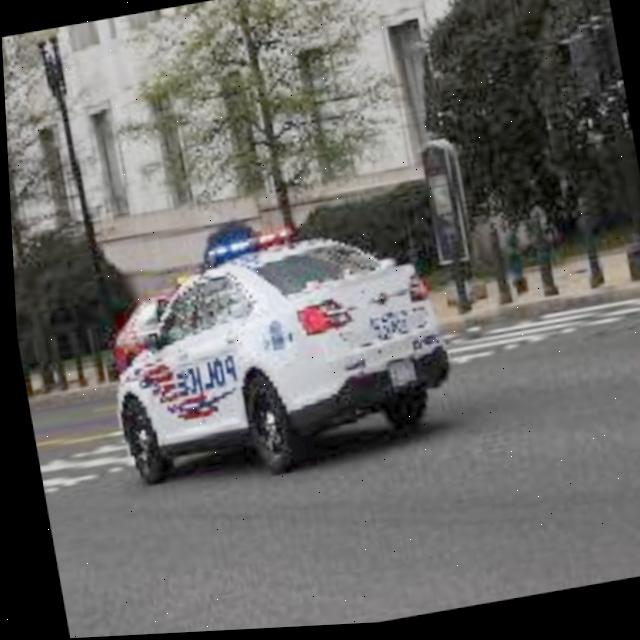emergency: (82, 202, 463, 507)
